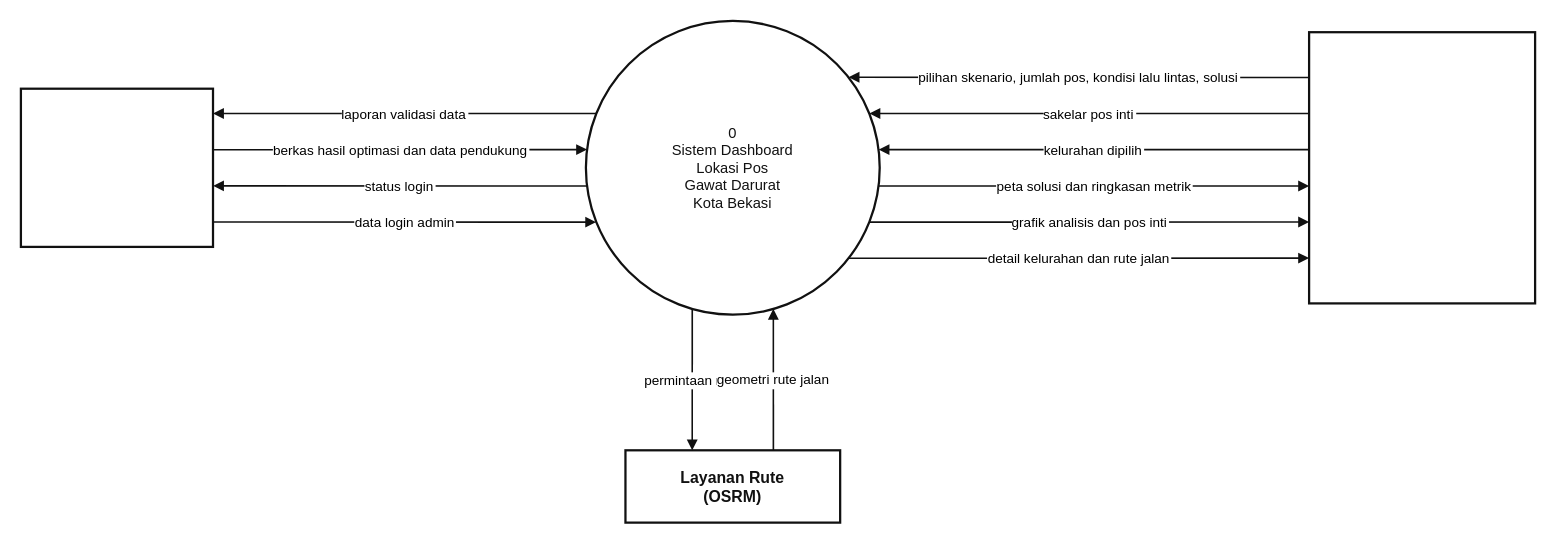
Image size: 1555x542. Some labels were removed from this diagram. The centre of each missing label's shape, as x and y in pixels:
Admin: the point at 116,167
Perencana (Dinkes / PSC 119): the point at 1421,167
